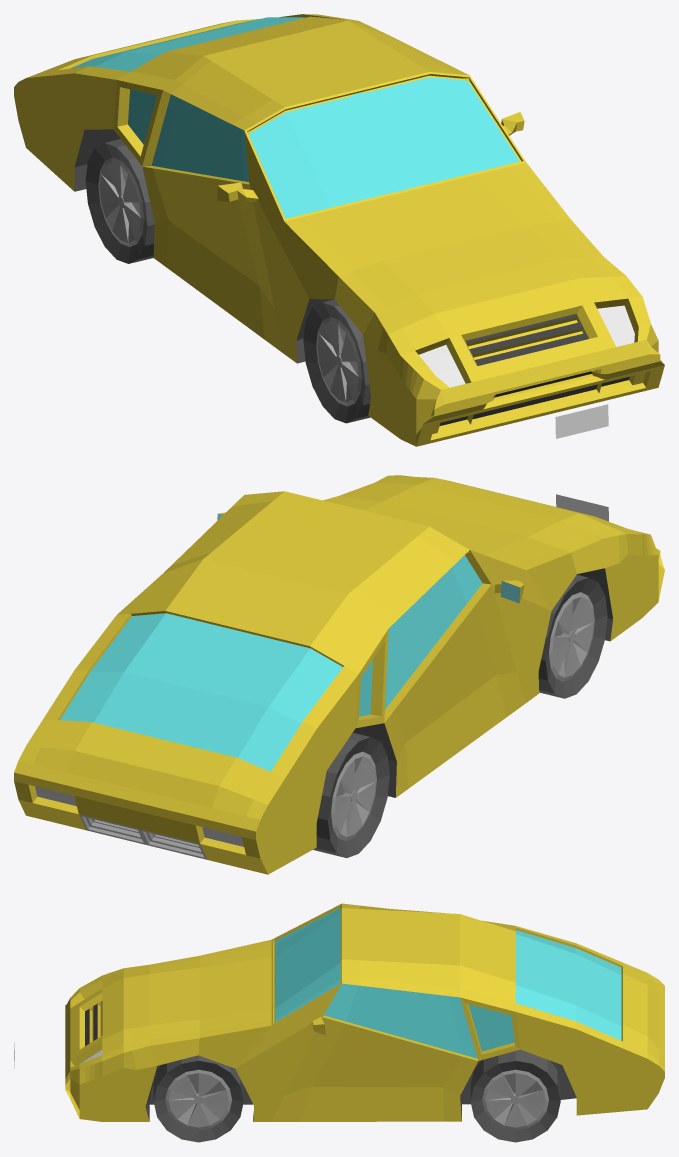
The model's file is Car2.fbx.
3 renders of one model, top to bottom at view 1: azimuth 30°, elevation 25°; view 2: azimuth 150°, elevation 25°; view 3: azimuth 270°, elevation 25°, orthographic. The views are drawn at different scales.
Visible parts, largest first — view 1: Cube, Plane.001; view 2: Cube, Plane.001; view 3: Cube.
Boxes of the visible parts, x1,y1,x2,y2 form: Cube: (14, 14, 664, 446); Plane.001: (555, 404, 608, 438); Cube: (14, 475, 664, 874); Plane.001: (556, 494, 608, 521); Cube: (65, 903, 664, 1142).
Size of the model in its own units: 228 by 164 by 583.
